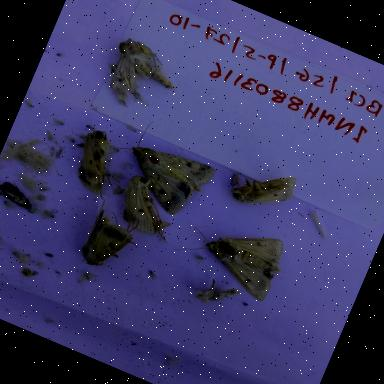abw: (182, 206, 296, 311), (89, 21, 194, 125), (113, 134, 216, 225), (212, 147, 309, 227), (66, 200, 151, 284), (100, 164, 187, 246), (56, 116, 134, 200)
